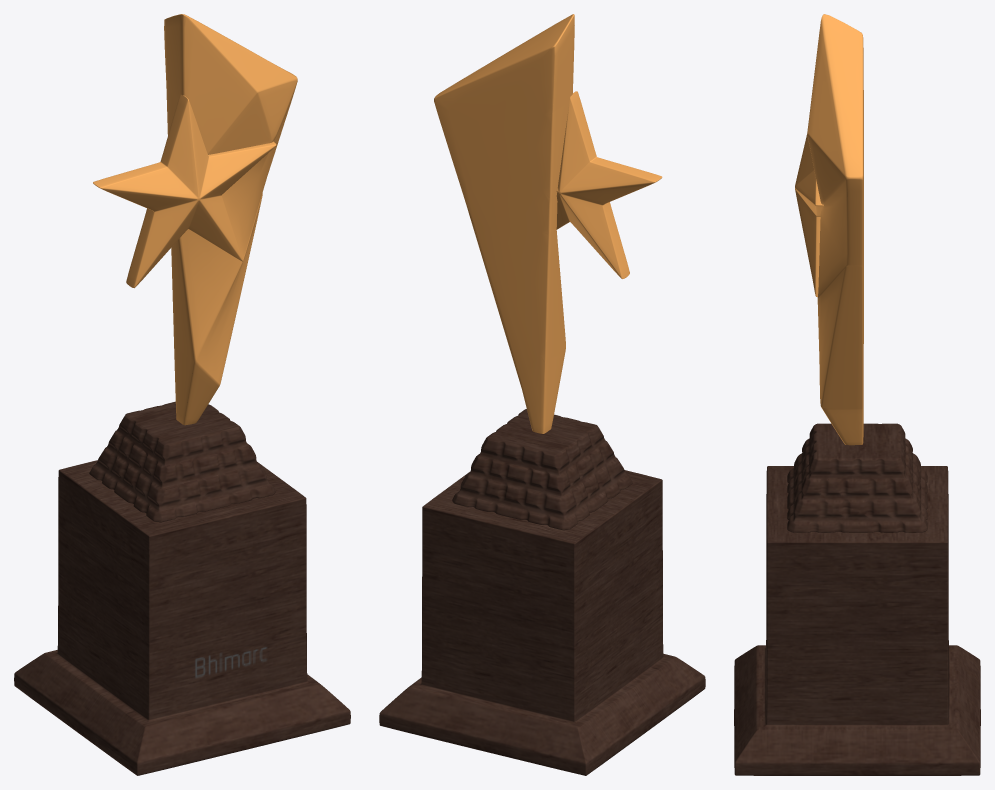
The model's file is trophy_3d_model.glb.
3 views of the same model, side by side, from view 1: azimuth 30°, elevation 25°; view 2: azimuth 150°, elevation 25°; view 3: azimuth 270°, elevation 25° (orthographic). The views are drawn at different scales.
Parts seen in each view (by area): view 1: Box001_Trofy_0; view 2: Box001_Trofy_0; view 3: Box001_Trofy_0.
Part boxes in pixels (x1,y1,x2,y2): Box001_Trofy_0: [14, 14, 350, 775]; Box001_Trofy_0: [379, 14, 705, 775]; Box001_Trofy_0: [734, 14, 980, 775].
Bounding box in the file's own units: 0.8353 × 2.59 × 0.8227.
1 material, 1 textured.
